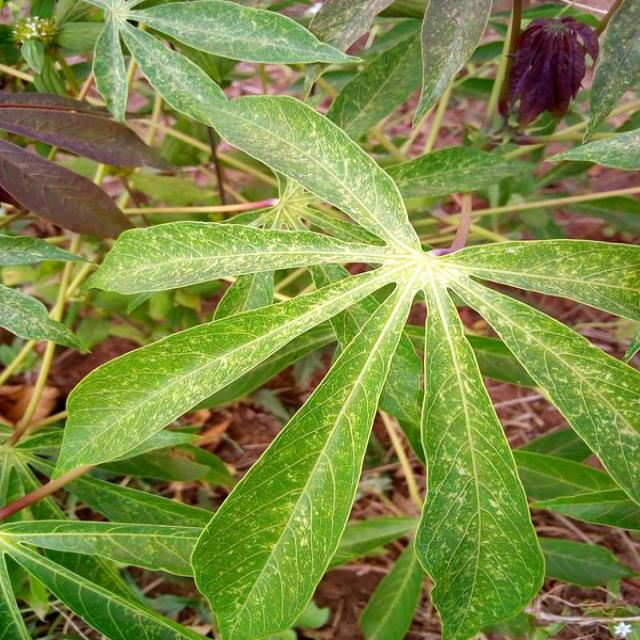cassava leaf: (59, 83, 638, 637), (189, 271, 415, 638), (412, 267, 546, 638)
